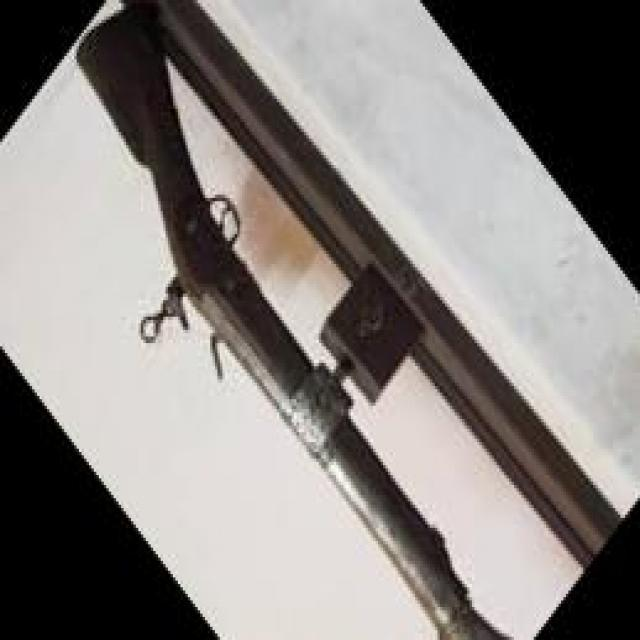weapon: (76, 3, 514, 640)
